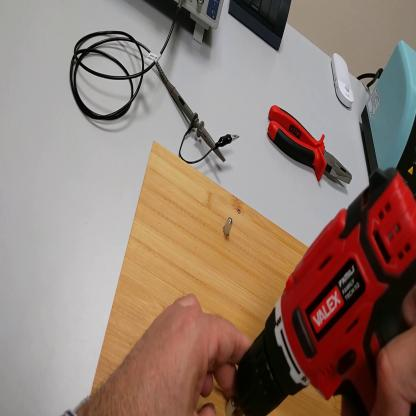electric screwdriver: (233, 166, 416, 414)
hand: (107, 291, 255, 413), (372, 284, 416, 414)
oscilloscope: (174, 1, 227, 44)
oscilloscope probe tip: (154, 58, 227, 162)
pliers: (270, 105, 354, 185)
welder station: (361, 44, 416, 183)
working area: (91, 142, 343, 416)
